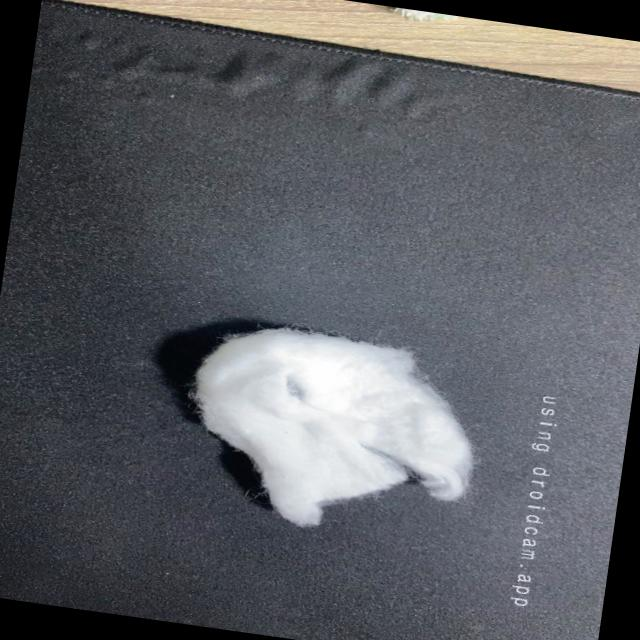cotton: (158, 308, 495, 558)
